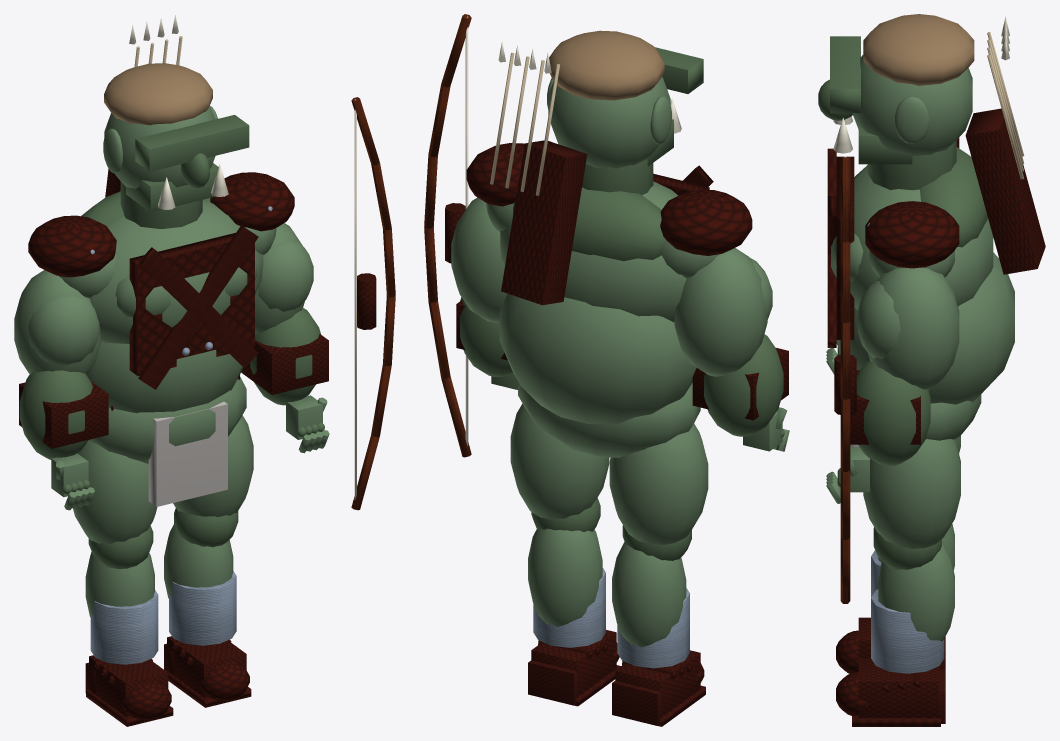
File: orco_arquero.glb
3 views of the same model, side by side, from view 1: azimuth 30°, elevation 25°; view 2: azimuth 150°, elevation 25°; view 3: azimuth 270°, elevation 25° (orthographic). The views are drawn at different scales.
Parts seen in each view (by area): view 1: Grupo_1_30piezas, Grupo_0_26piezas, Grupo_3_17piezas, Grupo_2_13piezas, Arq_Taparrabos, Arq_Pelo, Grupo_6_6piezas, Arq_Cuerda_Arco, Grupo_5_2piezas; view 2: Grupo_1_30piezas, Grupo_0_26piezas, Grupo_3_17piezas, Arq_Pelo, Grupo_2_13piezas, Grupo_6_6piezas, Grupo_7_4piezas, Arq_Cuerda_Arco; view 3: Grupo_1_30piezas, Grupo_0_26piezas, Grupo_3_17piezas, Arq_Pelo, Grupo_6_6piezas, Grupo_2_13piezas, Grupo_7_4piezas, Grupo_5_2piezas.
Part boxes in pixels (left/top/right/bottom): Grupo_1_30piezas: left=14, top=106, right=329, bottom=617; Grupo_0_26piezas: left=19, top=168, right=376, bottom=726; Grupo_3_17piezas: left=19, top=115, right=324, bottom=568; Grupo_2_13piezas: left=90, top=206, right=272, bottom=664; Arq_Taparrabos: left=148, top=401, right=227, bottom=506; Arq_Pelo: left=104, top=63, right=212, bottom=125; Grupo_6_6piezas: left=351, top=97, right=395, bottom=510; Arq_Cuerda_Arco: left=354, top=99, right=356, bottom=499; Grupo_5_2piezas: left=158, top=164, right=228, bottom=209; Grupo_1_30piezas: left=451, top=76, right=789, bottom=647; Grupo_0_26piezas: left=445, top=140, right=788, bottom=726; Grupo_3_17piezas: left=460, top=47, right=784, bottom=560; Arq_Pelo: left=549, top=30, right=664, bottom=100; Grupo_2_13piezas: left=533, top=568, right=689, bottom=668; Grupo_6_6piezas: left=424, top=14, right=471, bottom=457; Grupo_7_4piezas: left=490, top=52, right=559, bottom=195; Arq_Cuerda_Arco: left=465, top=16, right=468, bottom=445; Grupo_1_30piezas: left=826, top=55, right=1014, bottom=641; Grupo_0_26piezas: left=827, top=108, right=1045, bottom=726; Grupo_3_17piezas: left=818, top=36, right=987, bottom=569; Arq_Pelo: left=863, top=14, right=974, bottom=85; Grupo_6_6piezas: left=840, top=156, right=850, bottom=603; Grupo_2_13piezas: left=867, top=222, right=944, bottom=673; Grupo_7_4piezas: left=987, top=32, right=1024, bottom=179; Grupo_5_2piezas: left=833, top=116, right=852, bottom=153.
Bounding box in the file's own units: 1.97 × 3.4 × 1.02.
Materials: 12 (4 with a texture image).
